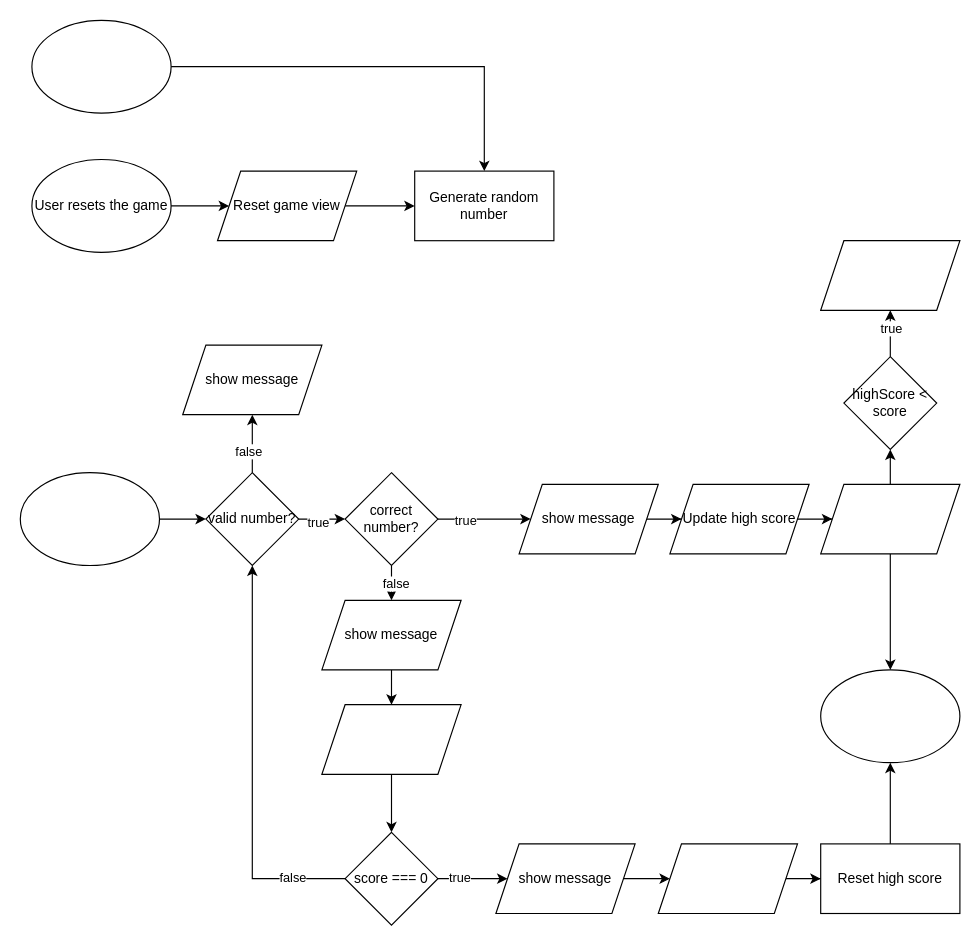
The diagram is 980 pixels wide and 945 high, and some of its shapes have lost their labels. The shapes that lost their labels are listed below. From the top down, each one's box as (x1, y1, x2, y2) in pixels, then its label:
(31, 19, 171, 113): User starts the game
(820, 240, 960, 310): Update highScore
(19, 472, 160, 566): User clicks check button
(820, 483, 960, 554): Update game view
(820, 669, 960, 763): End game
(321, 704, 461, 774): update score
(657, 843, 798, 913): update bg
